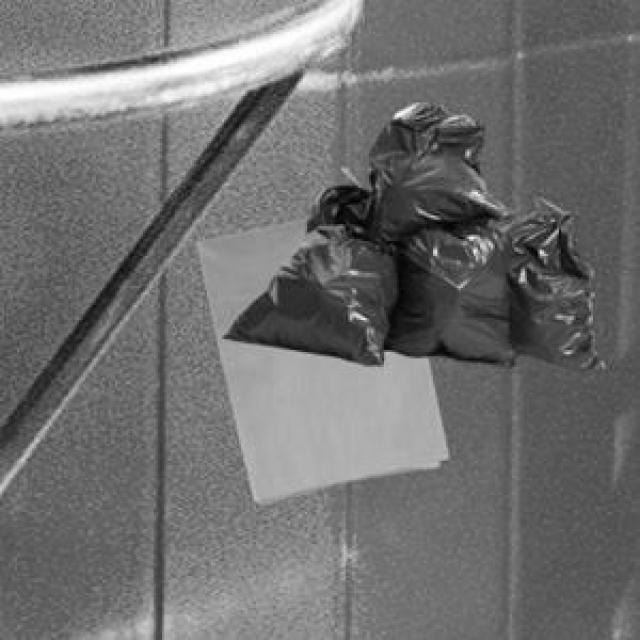miscellaneous trash: (220, 98, 602, 365)
paper: (194, 216, 444, 501)
